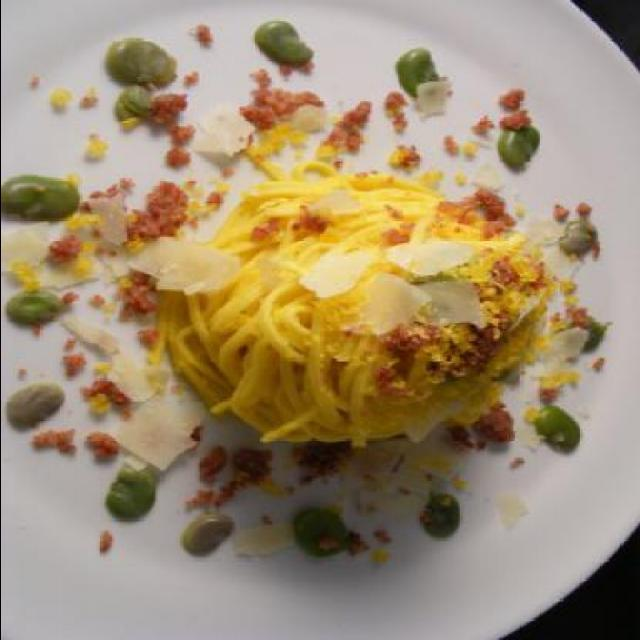Pasta with carbonara sauce: (36, 47, 582, 596)
